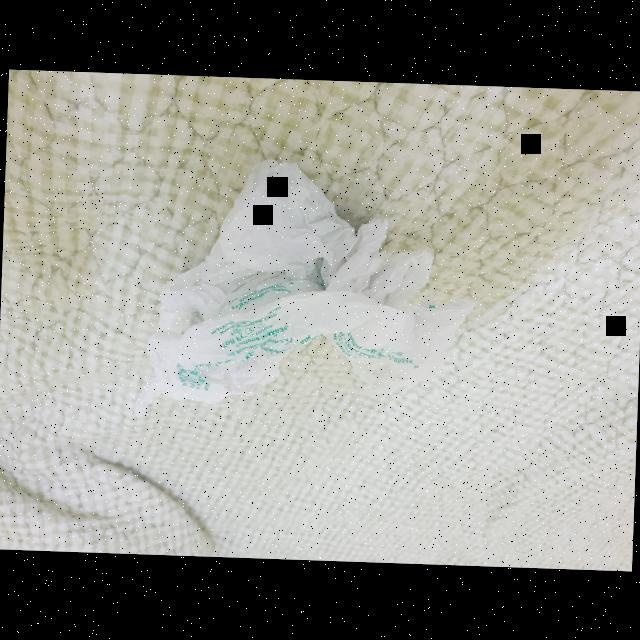plastic_bag: (123, 150, 483, 430)
